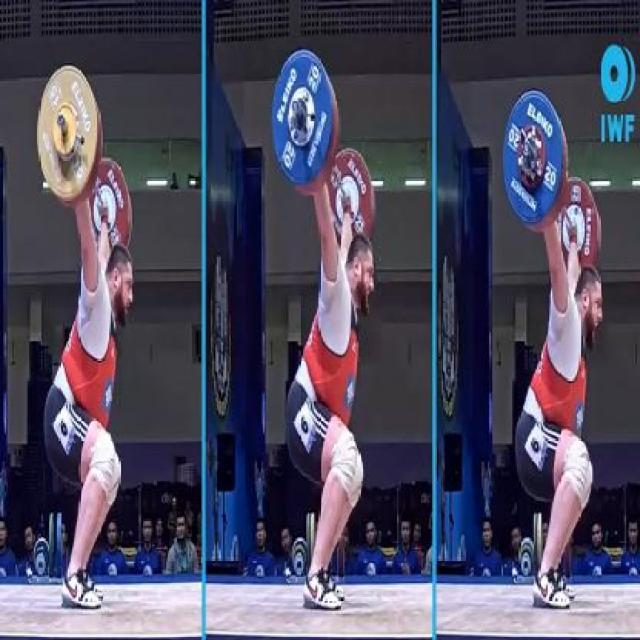Barbell: (520, 136, 534, 162), (290, 92, 302, 120), (56, 110, 66, 133)
